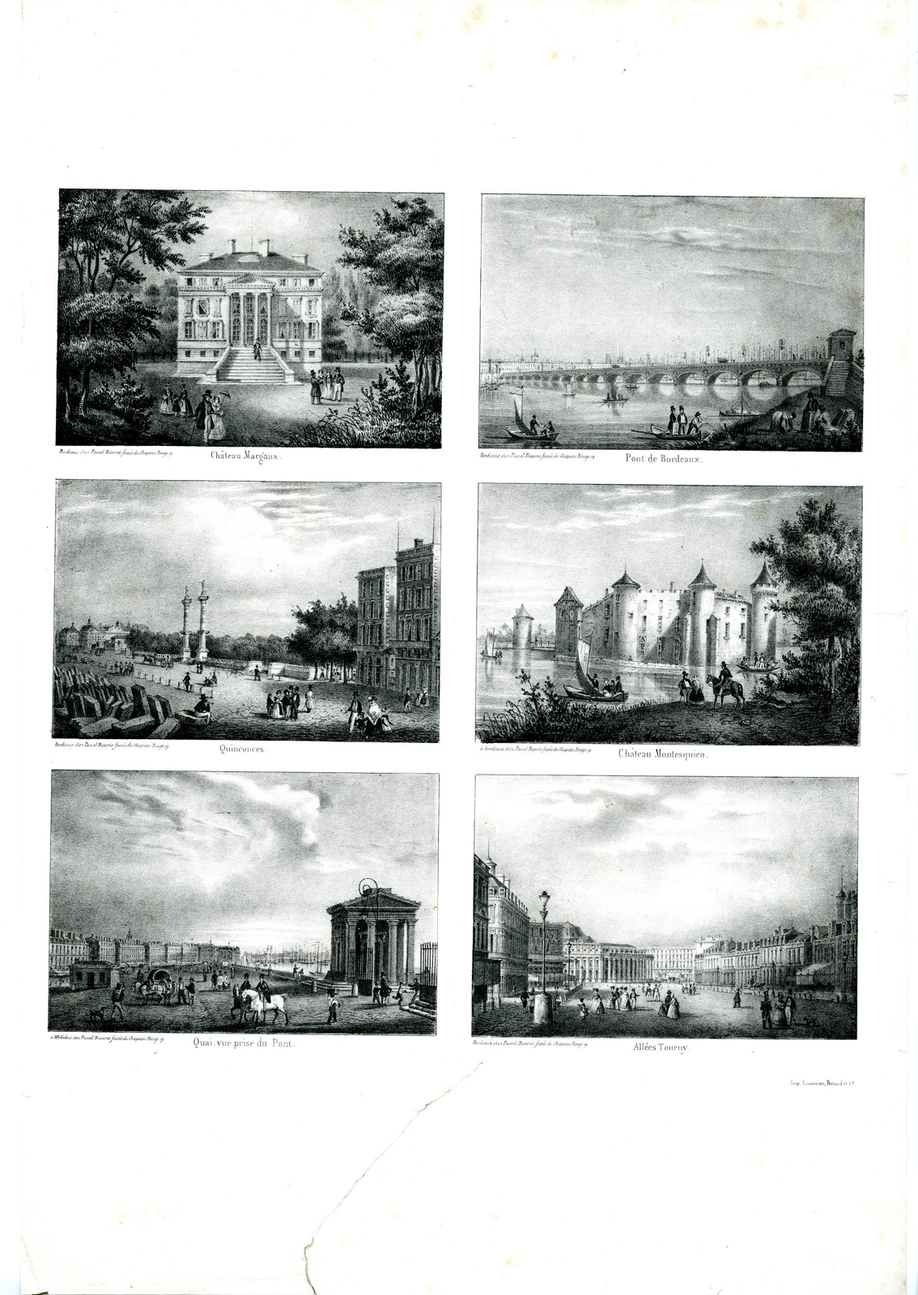fachada: (506, 530, 846, 708), (146, 227, 413, 425), (295, 902, 429, 1000)
poste: (522, 854, 571, 1028)
